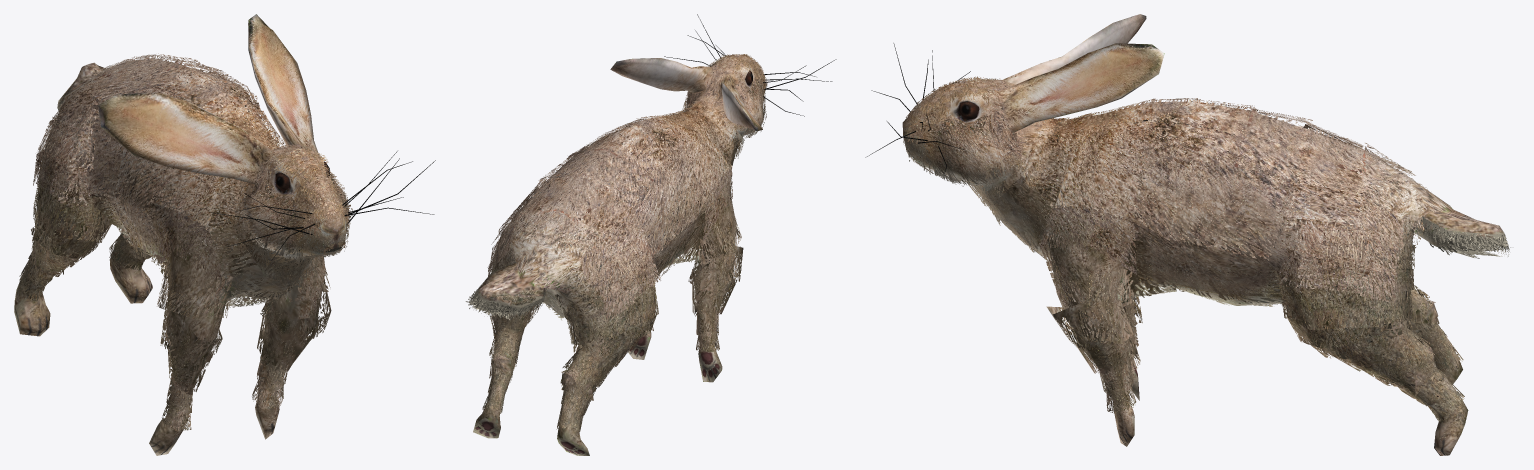
File: rabbit20013.obj
3 renders of one model, left to right at view 1: azimuth 30°, elevation 25°; view 2: azimuth 150°, elevation 25°; view 3: azimuth 270°, elevation 25°, orthographic. The views are drawn at different scales.
Visible parts, largest first — view 1: Rabbit, Fur; view 2: Rabbit, Fur; view 3: Rabbit, Fur.
Boxes of the visible parts, <box> form: Rabbit: <box>14,14,435,455</box>; Fur: <box>18,53,352,431</box>; Rabbit: <box>473,14,836,455</box>; Fur: <box>465,54,767,432</box>; Rabbit: <box>865,14,1504,455</box>; Fur: <box>903,76,1510,421</box>.
Bounding box in the file's own units: 8.94 × 14.21 × 21.17.
